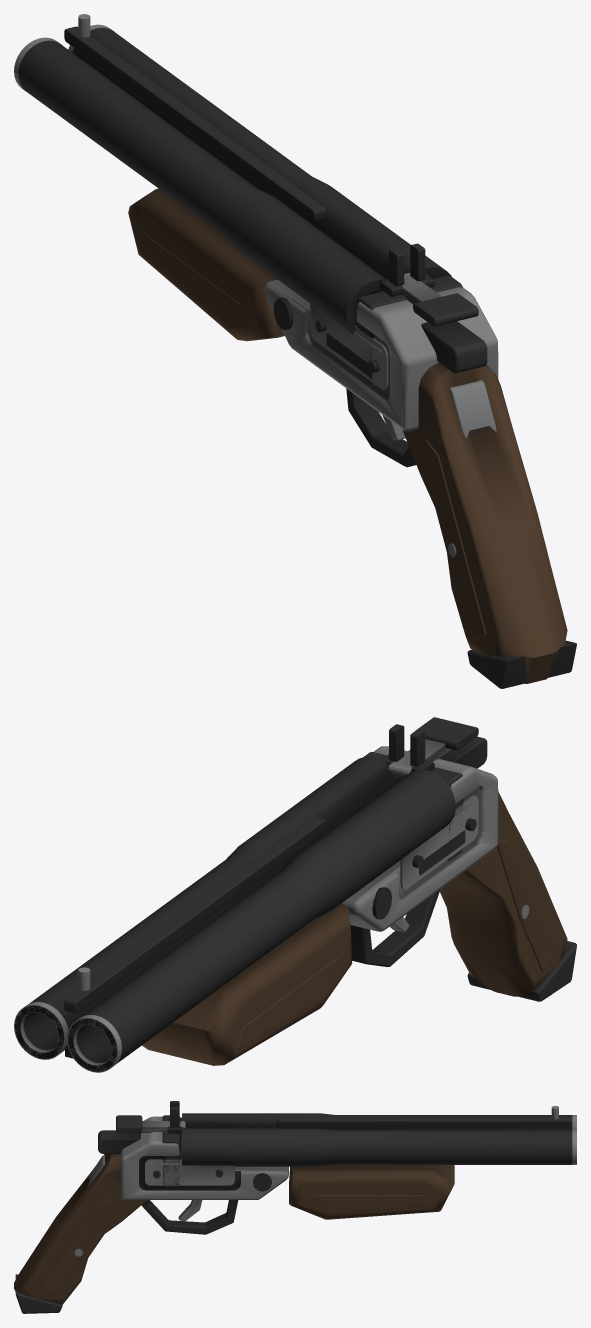
The model's file is grubber_sawnoff.glb.
3 views of the same model, one above another, from view 1: azimuth 30°, elevation 25°; view 2: azimuth 150°, elevation 25°; view 3: azimuth 270°, elevation 25° (orthographic). The views are drawn at different scales.
Visible parts, largest first — view 1: BarrelL, Grip, Receiver, Foregrip, BarrelR, Bolt, IronSights; view 2: BarrelL, Grip, Foregrip, Receiver, BarrelR, Bolt, IronSights; view 3: BarrelR, Receiver, Grip, Foregrip, BarrelL, Bolt, IronSights.
Part boxes in pixels (x1,y1,x2,y2): BarrelL: (14, 14, 387, 334); Grip: (402, 362, 576, 688); Receiver: (265, 275, 498, 467); Foregrip: (128, 188, 284, 341); BarrelR: (68, 24, 451, 279); Bolt: (388, 273, 478, 326); IronSights: (380, 243, 434, 296); BarrelL: (64, 769, 455, 1072); Grip: (439, 792, 576, 1001); Foregrip: (142, 903, 352, 1065); Receiver: (342, 736, 498, 966); BarrelR: (14, 756, 399, 1059); Bolt: (388, 717, 478, 778); IronSights: (381, 724, 434, 771); BarrelR: (182, 1128, 576, 1166); Receiver: (98, 1115, 288, 1234); Grip: (14, 1154, 147, 1313); Foregrip: (289, 1165, 454, 1219); BarrelL: (182, 1106, 576, 1130); Bolt: (116, 1115, 185, 1132); IronSights: (167, 1101, 181, 1133).
Bounding box in the file's own units: 0.062 × 0.183 × 0.469.
